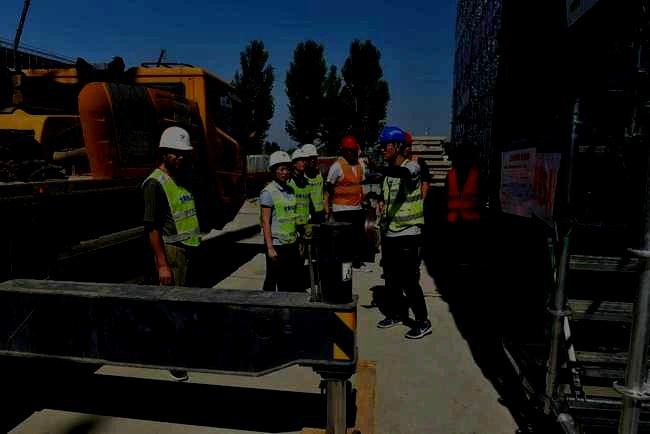helmet: (158, 126, 193, 172), (379, 126, 407, 161), (266, 150, 292, 181), (339, 135, 359, 162), (290, 148, 309, 172), (302, 143, 318, 169), (400, 133, 416, 159)
